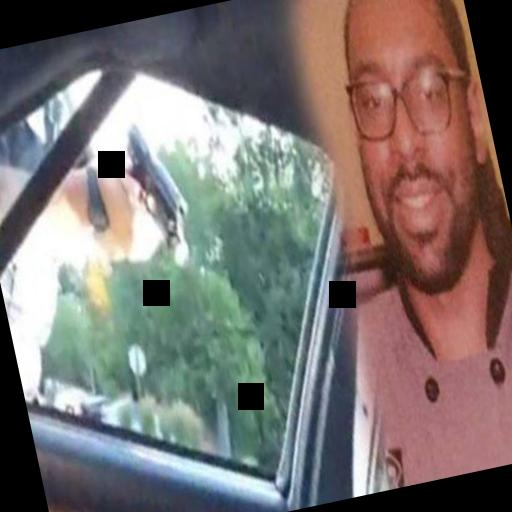Handgun: (113, 116, 198, 270)
